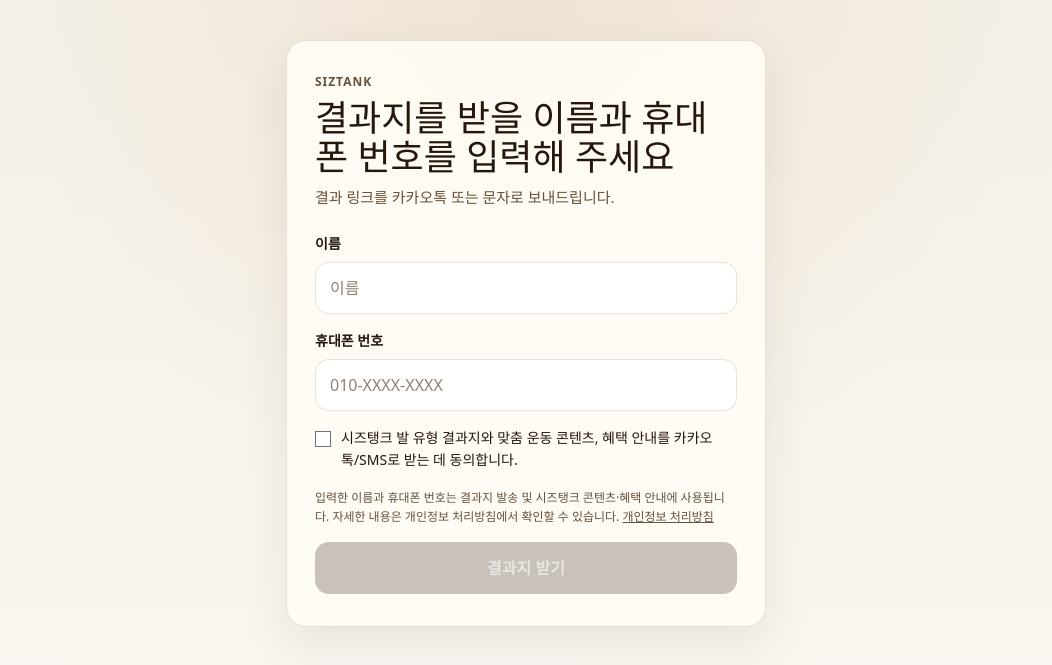
Scenario: ContactForm › 유효한 값 입력 후 제출 버튼이 활성화된다
Step 1. Type "홍길동" into the field with placeholder "이름" → (526, 288), box [315,262,737,314]
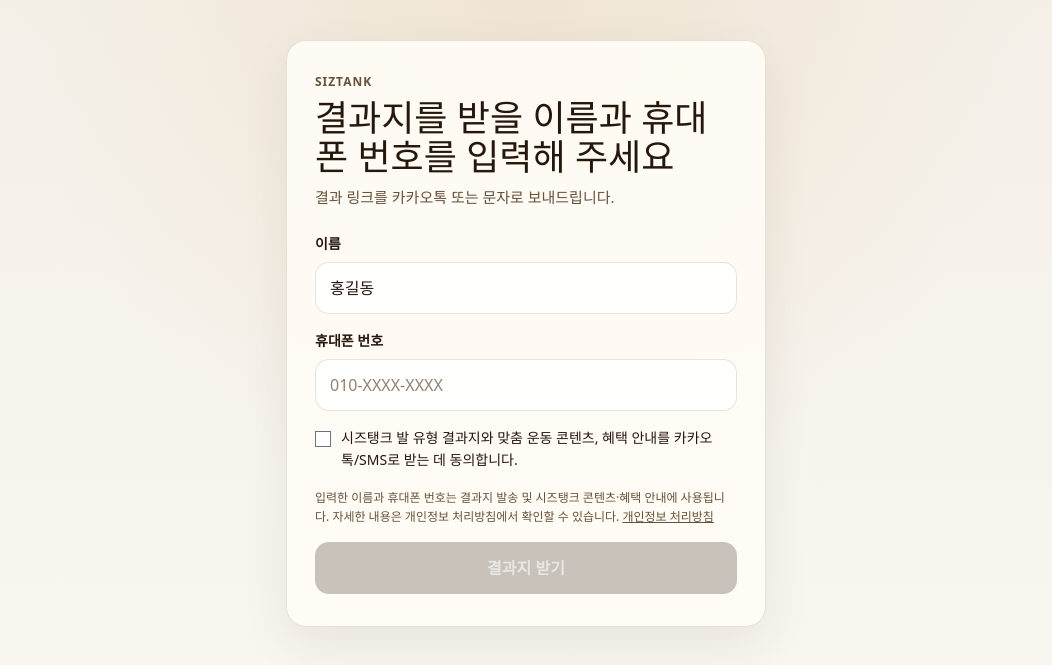
Step 2. Type "01012345678" into the field with placeholder "010-XXXX-XXXX" → (526, 385), box [315,359,737,411]
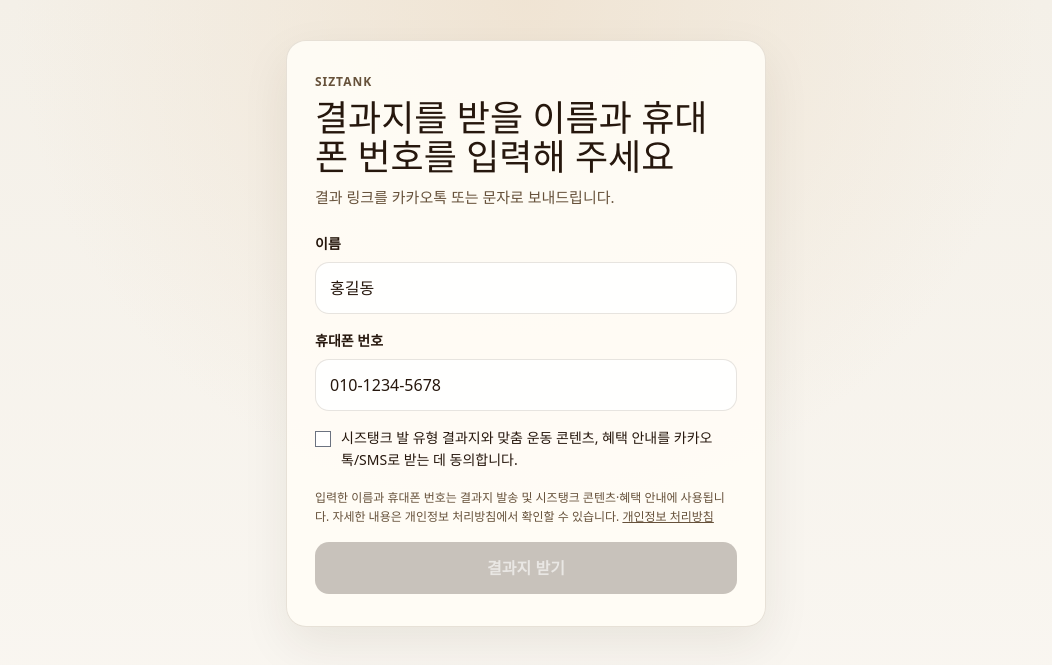
Step 3. Click the checkbox → (323, 439), box [315,431,331,447]
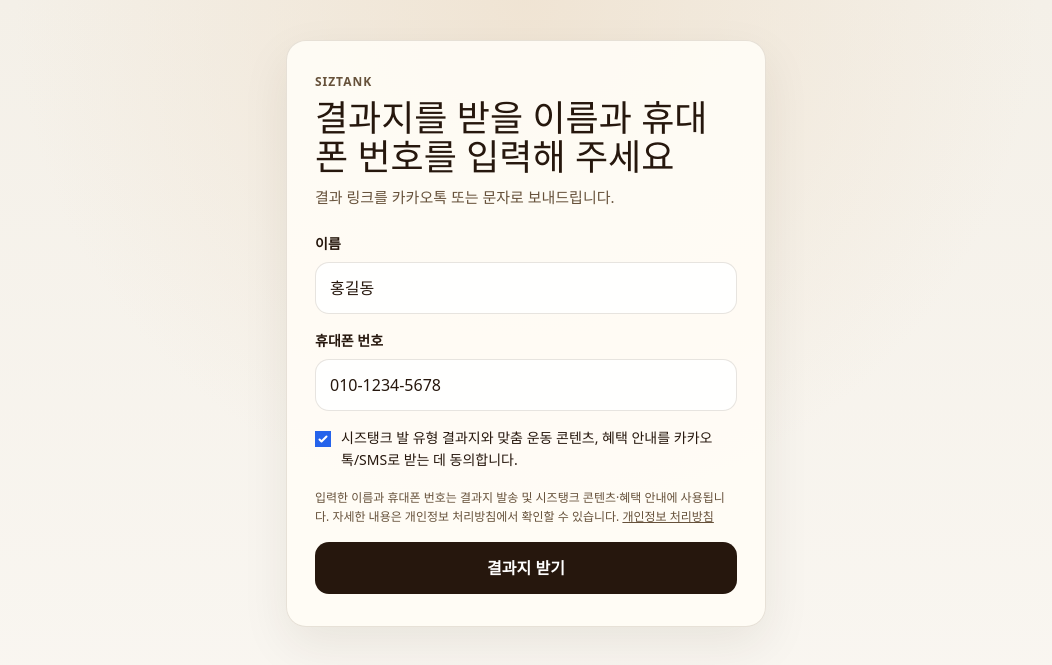
Expected: the field showing "010-1234-5678" is shown, [315,359,737,411]
Expected: the button "결과지 받기" is enabled, [315,542,737,594]
